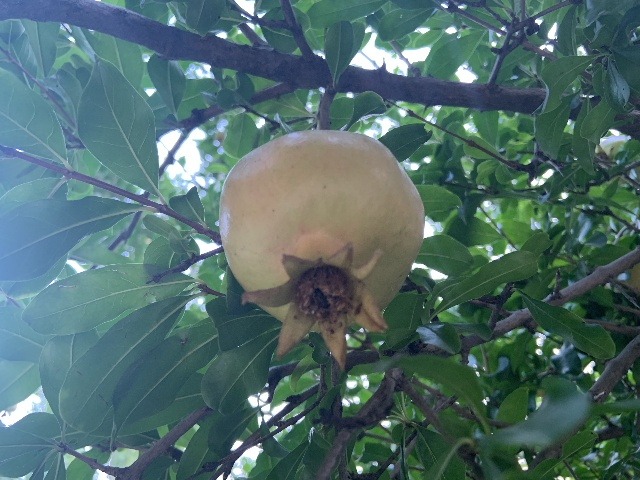mid-growth: (218, 129, 424, 372)
